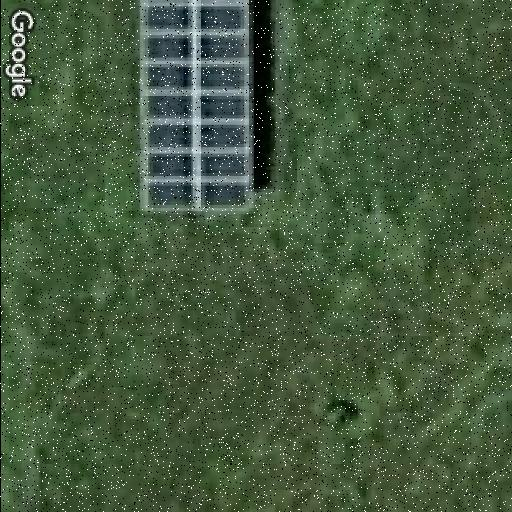solar-panel: (135, 0, 255, 214)
